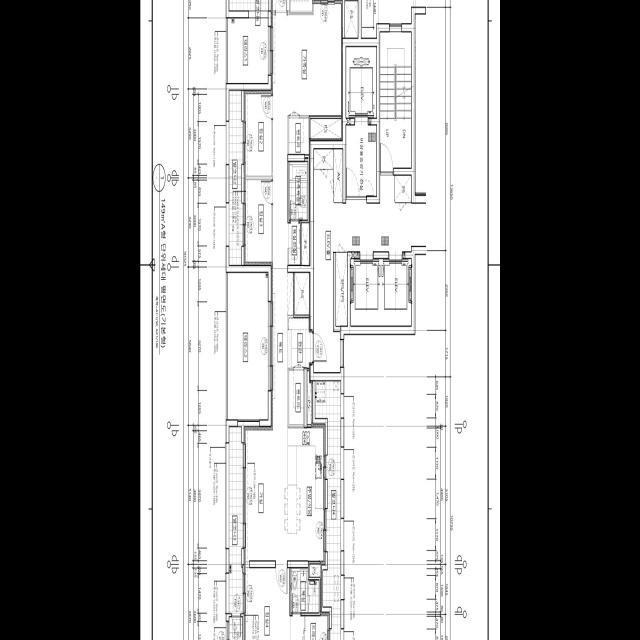background: (140, 0, 500, 640)
space_balconi: (315, 381, 340, 640), (228, 273, 267, 419), (228, 0, 268, 83), (229, 427, 243, 613), (229, 90, 241, 265)
space_bedroom: (244, 568, 289, 640), (244, 179, 271, 265), (244, 91, 271, 176)
space_dressroom: (289, 612, 329, 640), (290, 0, 312, 12)
space_elevator: (350, 259, 411, 325), (346, 47, 376, 118)
space_elevator_hall: (314, 125, 426, 372)
space_front: (287, 318, 312, 368)
space_kitchen: (287, 424, 325, 564)
space_living_room: (244, 0, 342, 562)
space_other: (335, 253, 347, 326), (289, 118, 310, 154), (289, 370, 303, 424), (310, 118, 342, 141), (294, 273, 310, 314), (344, 1, 358, 38), (333, 149, 342, 202), (394, 176, 411, 202), (314, 149, 333, 169), (301, 223, 310, 265), (229, 617, 242, 640), (307, 371, 312, 424), (309, 564, 321, 577)
space_staircase: (380, 32, 411, 171)
space_toilet: (288, 162, 307, 264), (291, 568, 319, 613)
